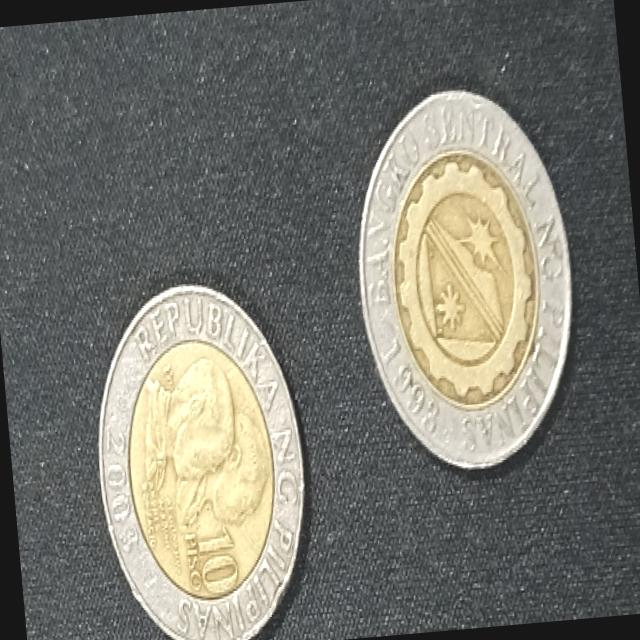10_peso: (359, 89, 571, 465), (98, 286, 303, 640)
